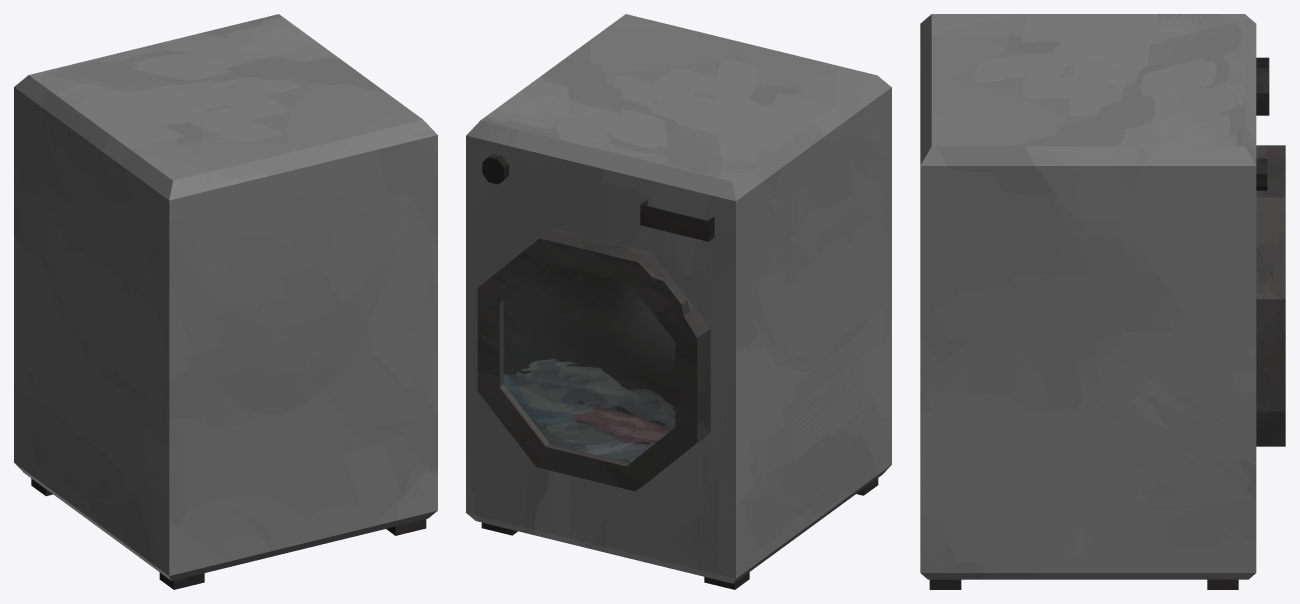
Rendered from M-Washingmachine.fbx.
The picture shows the model from 3 angles, left to right: view 1: azimuth 30°, elevation 25°; view 2: azimuth 150°, elevation 25°; view 3: azimuth 270°, elevation 25°; orthographic projection. The views are drawn at different scales.
Parts seen in each view (by area): view 1: Cube, Cube.006; view 2: Cube, Cube.005, Cube.006; view 3: Cube, Cube.005, Cube.006.
Boxes of the visible parts, bbox=[...] form: Cube: bbox=[14, 14, 437, 580]; Cube.006: bbox=[31, 478, 426, 589]; Cube: bbox=[466, 14, 891, 583]; Cube.005: bbox=[477, 228, 710, 491]; Cube.006: bbox=[481, 153, 878, 589]; Cube: bbox=[920, 14, 1256, 579]; Cube.005: bbox=[1256, 145, 1285, 446]; Cube.006: bbox=[929, 57, 1269, 589].
Bounding box in the file's own units: 60 × 65.24 × 87.19.
Materials: 3 (3 with a texture image).
